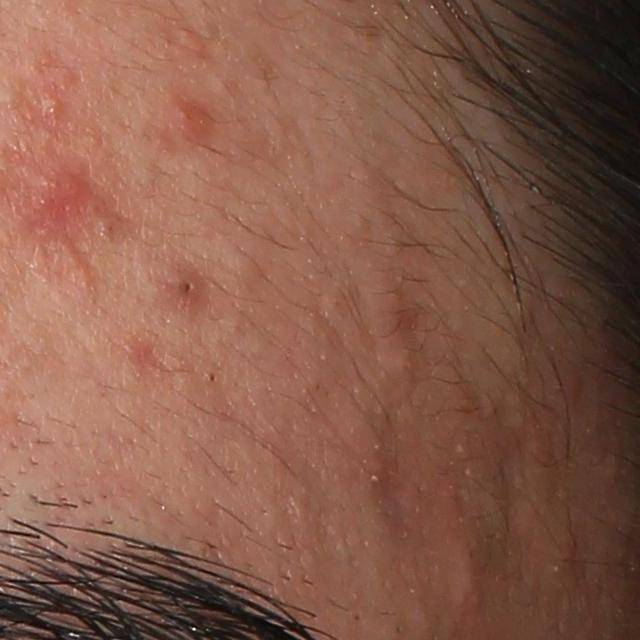comedo: (206, 368, 222, 385)
papule: (12, 156, 96, 233), (436, 535, 499, 624), (152, 262, 214, 314), (176, 97, 221, 146)
